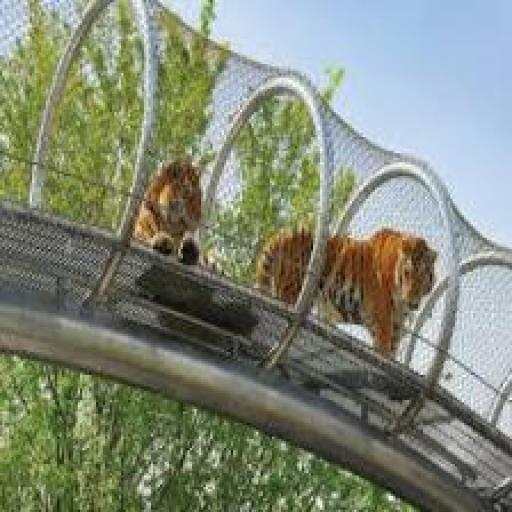Tiger: (240, 217, 461, 376), (117, 151, 216, 292)
